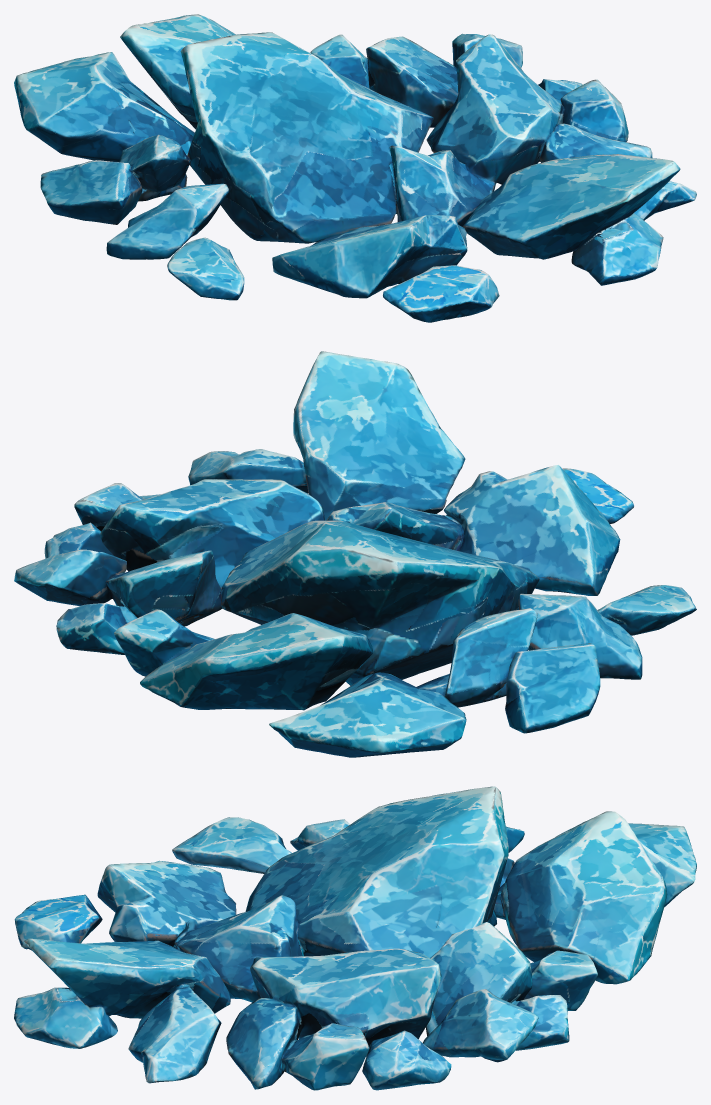
Rendered from IceSpike_03.fbx.
3 renders of one model, top to bottom at view 1: azimuth 30°, elevation 25°; view 2: azimuth 150°, elevation 25°; view 3: azimuth 270°, elevation 25°, orthographic. The views are drawn at different scales.
Parts seen in each view (by area): view 1: texture_mapping; view 2: texture_mapping; view 3: texture_mapping.
Part boxes in pixels (box(x1,y1,x2,y2)): texture_mapping: box(14, 14, 696, 322); texture_mapping: box(14, 351, 696, 757); texture_mapping: box(14, 786, 696, 1090).
Bounding box in the file's own units: 0.9099 × 0.9987 × 0.2331.
1 material, 1 textured.
